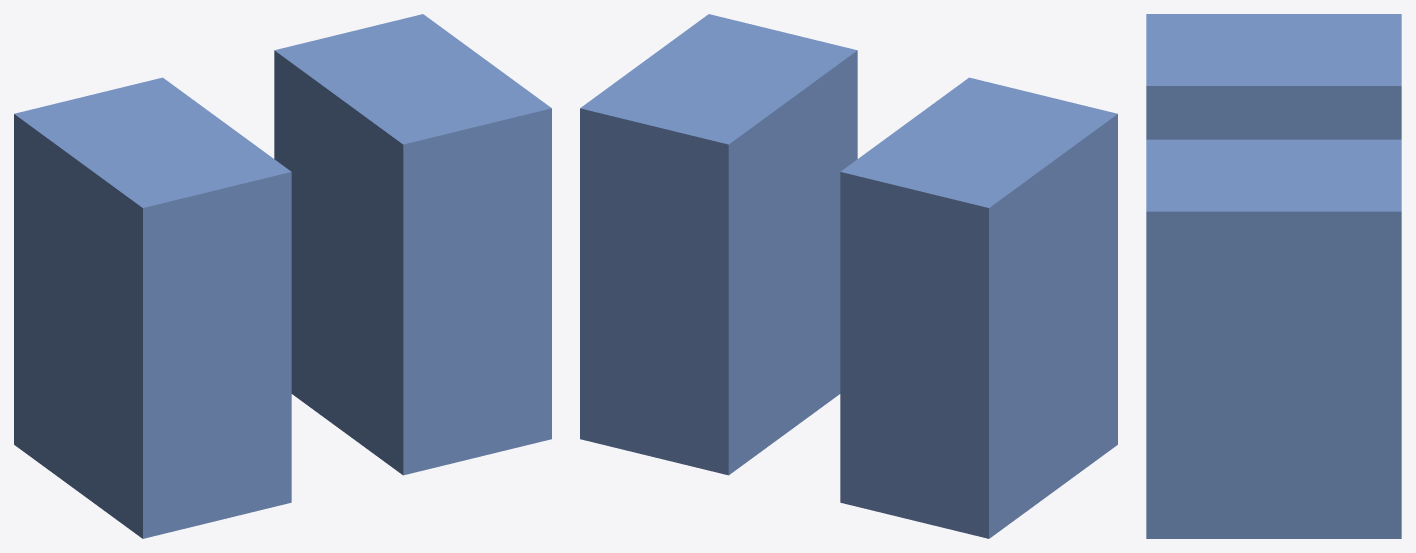
Rendered from mage_boots.glb.
3 renders of one model, left to right at view 1: azimuth 30°, elevation 25°; view 2: azimuth 150°, elevation 25°; view 3: azimuth 270°, elevation 25°, orthographic.
Parts seen in each view (by area): view 1: mage_boots; view 2: mage_boots; view 3: mage_boots.
Part boxes in pixels (left/top/right/bottom): mage_boots: left=14, top=14, right=551, bottom=538; mage_boots: left=580, top=14, right=1117, bottom=538; mage_boots: left=1146, top=14, right=1401, bottom=538.
Bounding box in the file's own units: 0.44 × 0.34 × 0.24.
